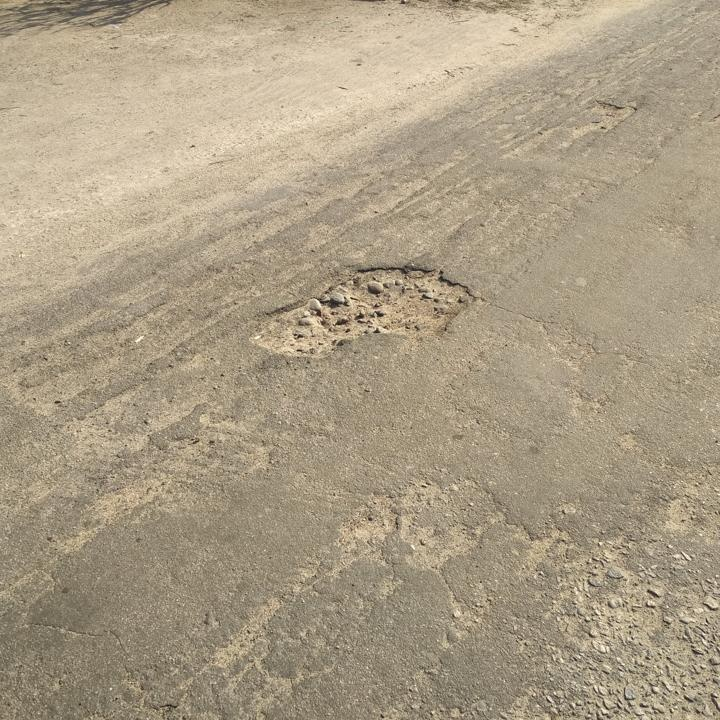pothole: (245, 260, 479, 357), (574, 93, 642, 138)
